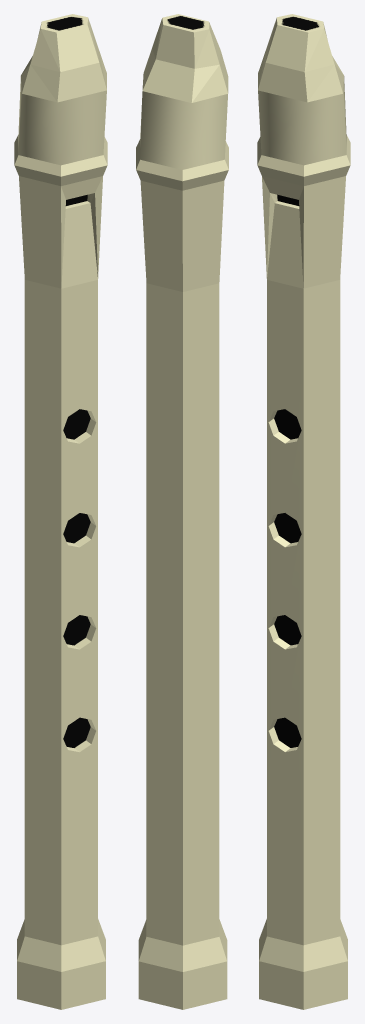
The model's file is Flauta.FBX.
3 renders of one model, left to right at view 1: azimuth 30°, elevation 25°; view 2: azimuth 150°, elevation 25°; view 3: azimuth 330°, elevation 25°, orthographic.
Parts seen in each view (by area): view 1: Cylinder001; view 2: Cylinder001; view 3: Cylinder001.
Boxes of the visible parts, <box> form: Cylinder001: <box>14,14,107,1009</box>; Cylinder001: <box>136,14,228,1009</box>; Cylinder001: <box>257,14,350,1009</box>.
Bounding box in the file's own units: 10.77 × 107 × 9.33.
